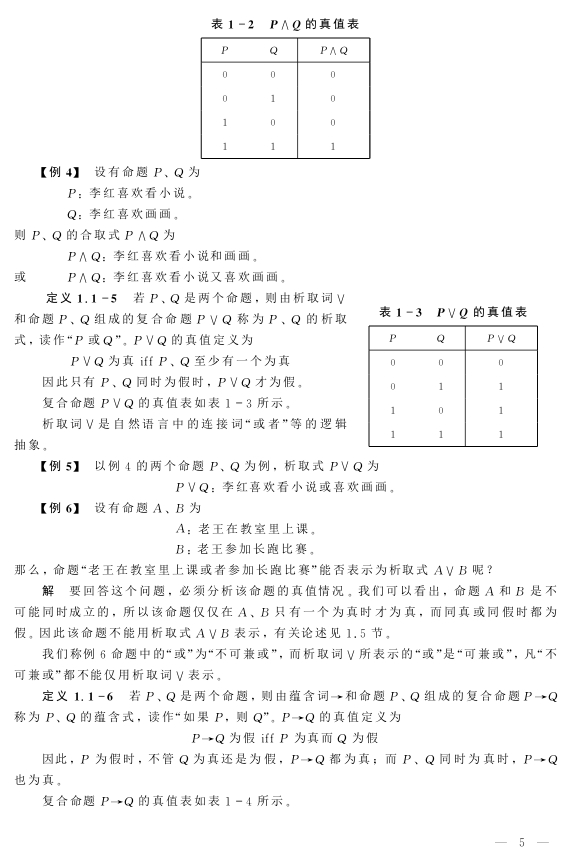table: (367, 325, 537, 448), (201, 38, 370, 159)
